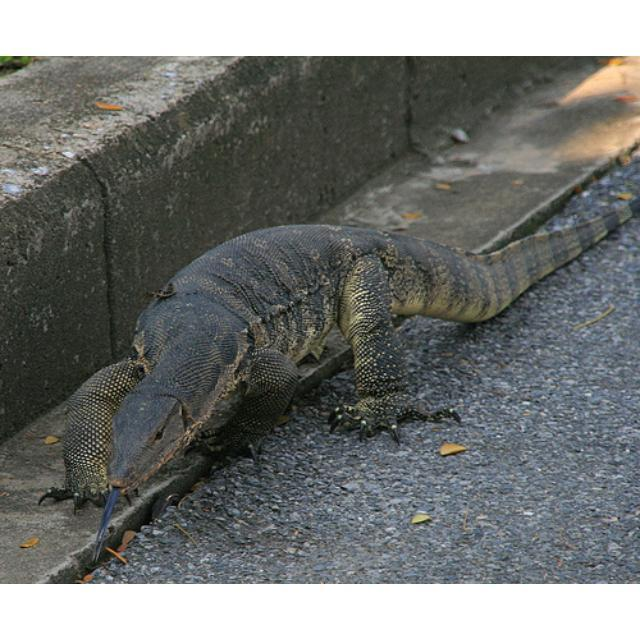KomodoDragon: (43, 193, 636, 557)
